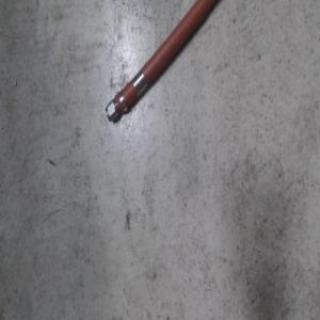Hosetrack_idkeyframe: (102, 0, 220, 124)
